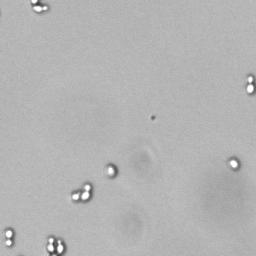budding: (69, 182, 96, 205), (2, 228, 19, 249), (245, 74, 256, 96), (29, 5, 52, 15)
cluster: (43, 234, 67, 255)
individual: (103, 163, 121, 180), (227, 155, 241, 172)
